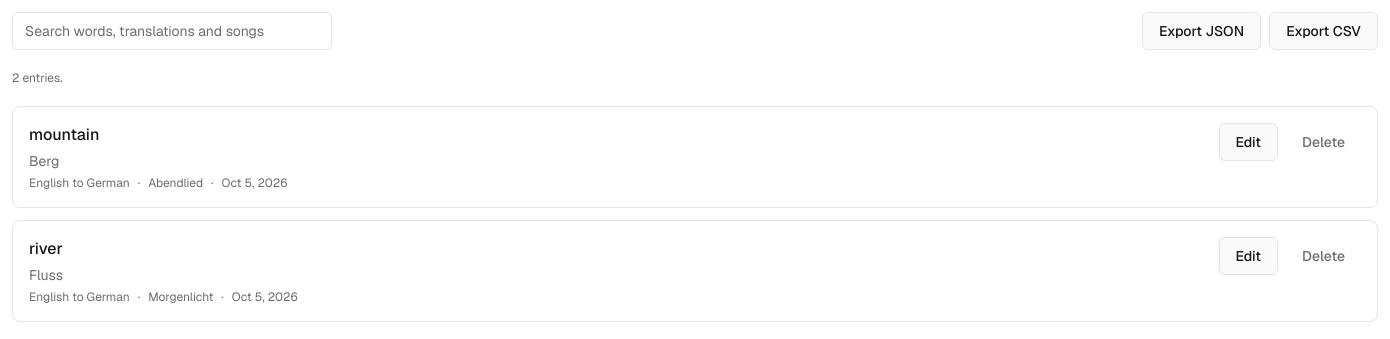
VocabularyList › search › filters by the word
Expected: the number of list items is 2, [12,106,1378,208]; [12,220,1378,322]
Type "riv" into the search field named "Search vocabulary" at (172, 31), box [12,12,332,50]
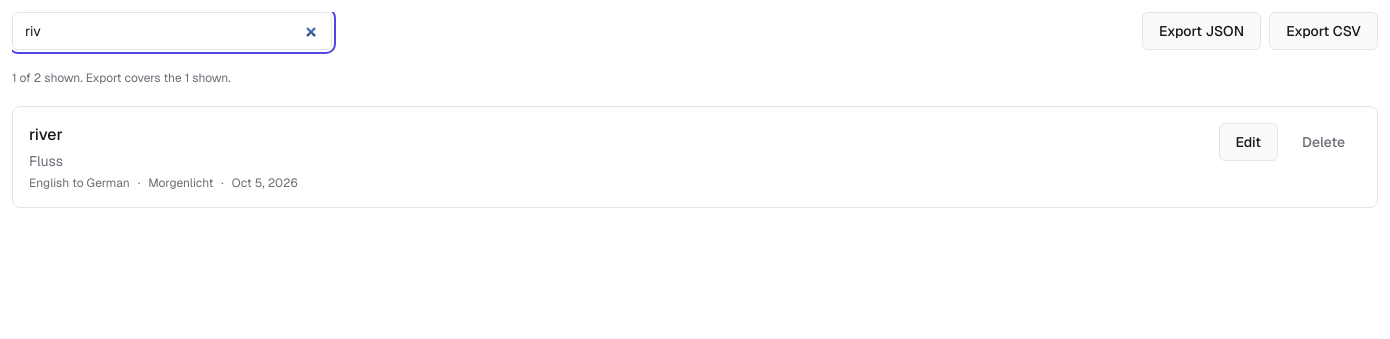
Expected: the list item shows "river", [29,124,63,145]
Now the number of list items is 1, box [12,106,1378,208]
